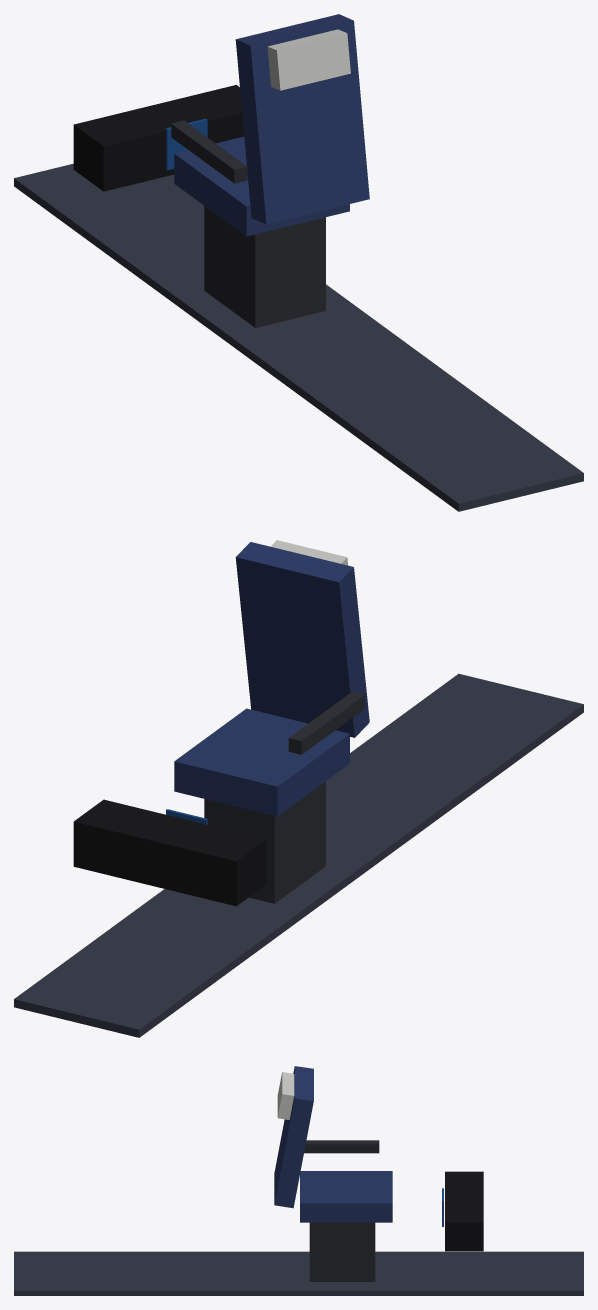
Rendered from lat_glider_cabin.dae.
3 renders of one model, top to bottom at view 1: azimuth 30°, elevation 25°; view 2: azimuth 150°, elevation 25°; view 3: azimuth 270°, elevation 25°, orthographic. The views are drawn at different scales.
Parts seen in each view (by area): view 1: lat_glider_cabin64; view 2: lat_glider_cabin64; view 3: lat_glider_cabin64.
Part boxes in pixels (bbox=[...]): lat_glider_cabin64: bbox=[14, 14, 583, 511]; lat_glider_cabin64: bbox=[14, 540, 583, 1037]; lat_glider_cabin64: bbox=[14, 1066, 583, 1295].
Bounding box in the file's own units: 0.624 × 2.95 × 1.11.
